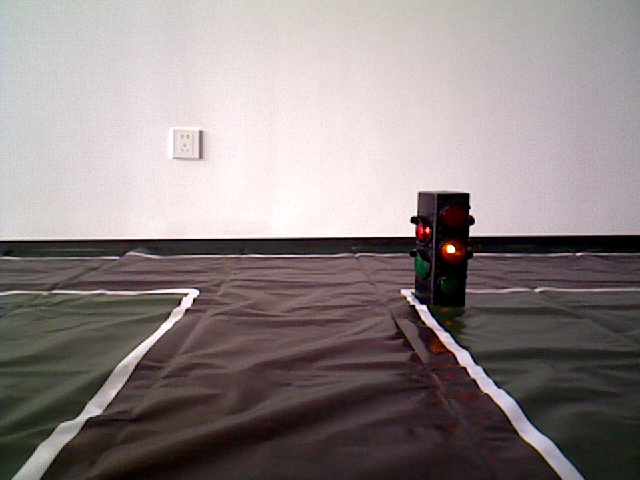yellow: (415, 191, 470, 306)
